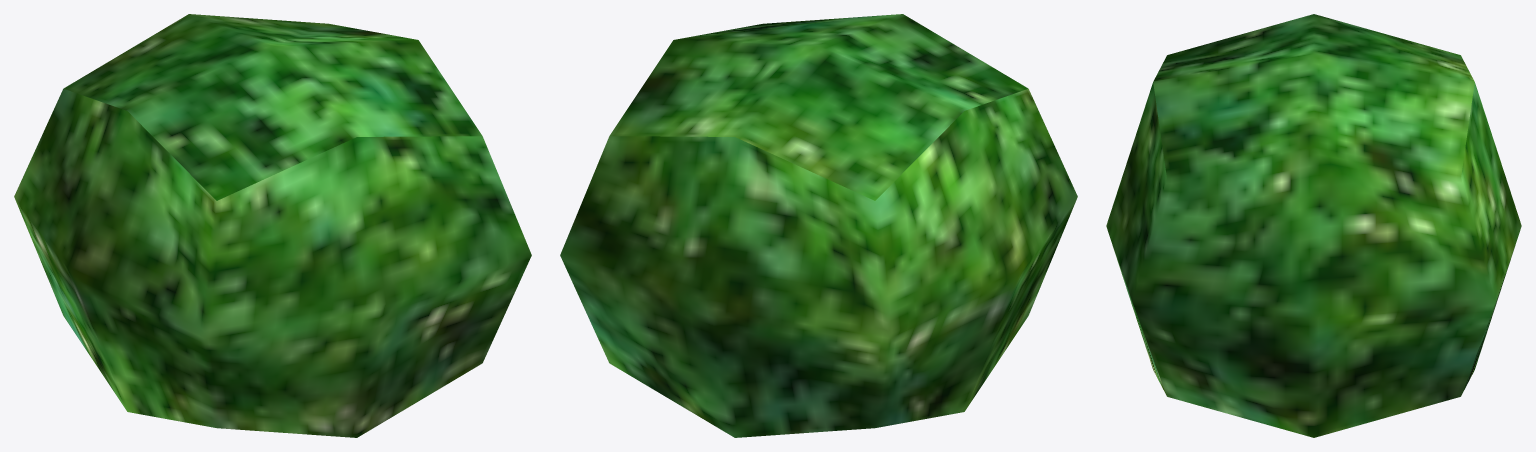
The model's file is bush.gltf.
3 views of the same model, side by side, from view 1: azimuth 30°, elevation 25°; view 2: azimuth 150°, elevation 25°; view 3: azimuth 270°, elevation 25° (orthographic). The views are drawn at different scales.
Parts seen in each view (by area): view 1: Bush; view 2: Bush; view 3: Bush.
Part boxes in pixels (bbox=[...]): Bush: bbox=[14, 14, 531, 437]; Bush: bbox=[560, 14, 1077, 437]; Bush: bbox=[1106, 14, 1521, 437].
Bounding box in the file's own units: 1.5 × 1.28 × 1.43.
Materials: 1 (1 with a texture image).
